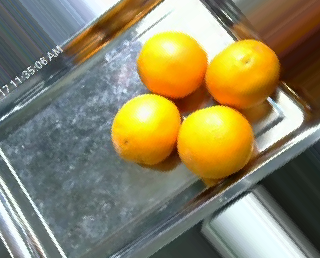Orange: (177, 105, 254, 179), (205, 39, 281, 108), (110, 92, 180, 165), (136, 30, 208, 100)
